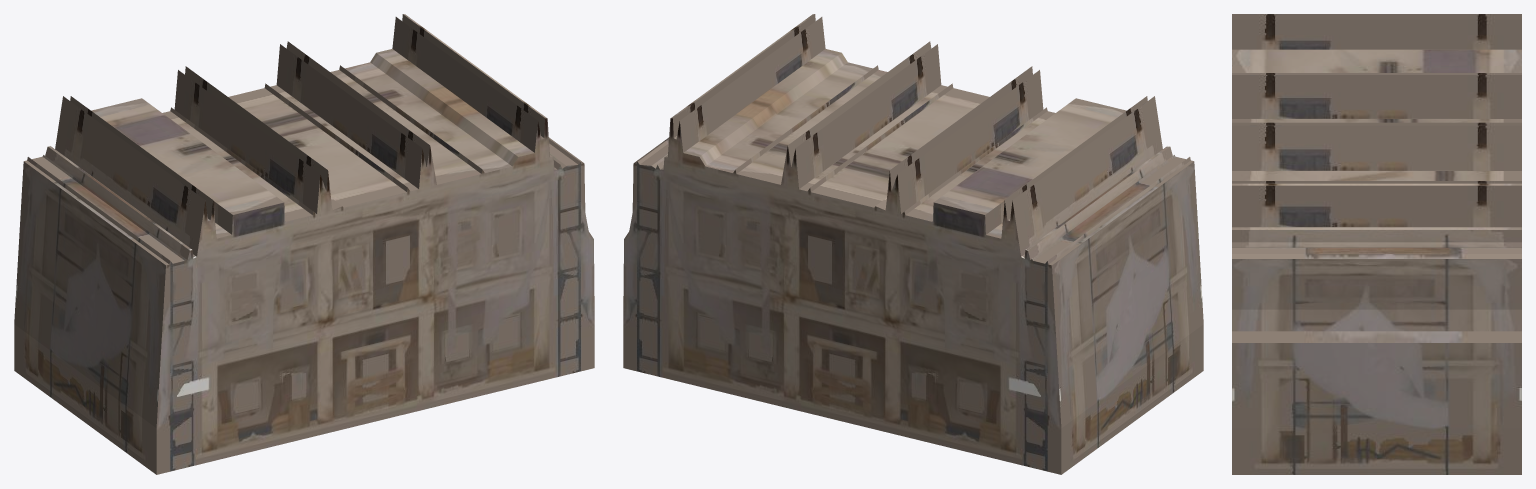
File: bg_city_ruin_1_lod0.glb
3 renders of one model, left to right at view 1: azimuth 30°, elevation 25°; view 2: azimuth 150°, elevation 25°; view 3: azimuth 270°, elevation 25°, orthographic.
Visible parts, largest first — view 1: body; view 2: body; view 3: body.
Part boxes in pixels (x1=…): body: x1=14, y1=14, x2=594, y2=474; body: x1=623, y1=14, x2=1203, y2=474; body: x1=1232, y1=14, x2=1521, y2=474.
Size of the model in its own units: 9 by 5.16 by 5.06.
1 material, 1 textured.
